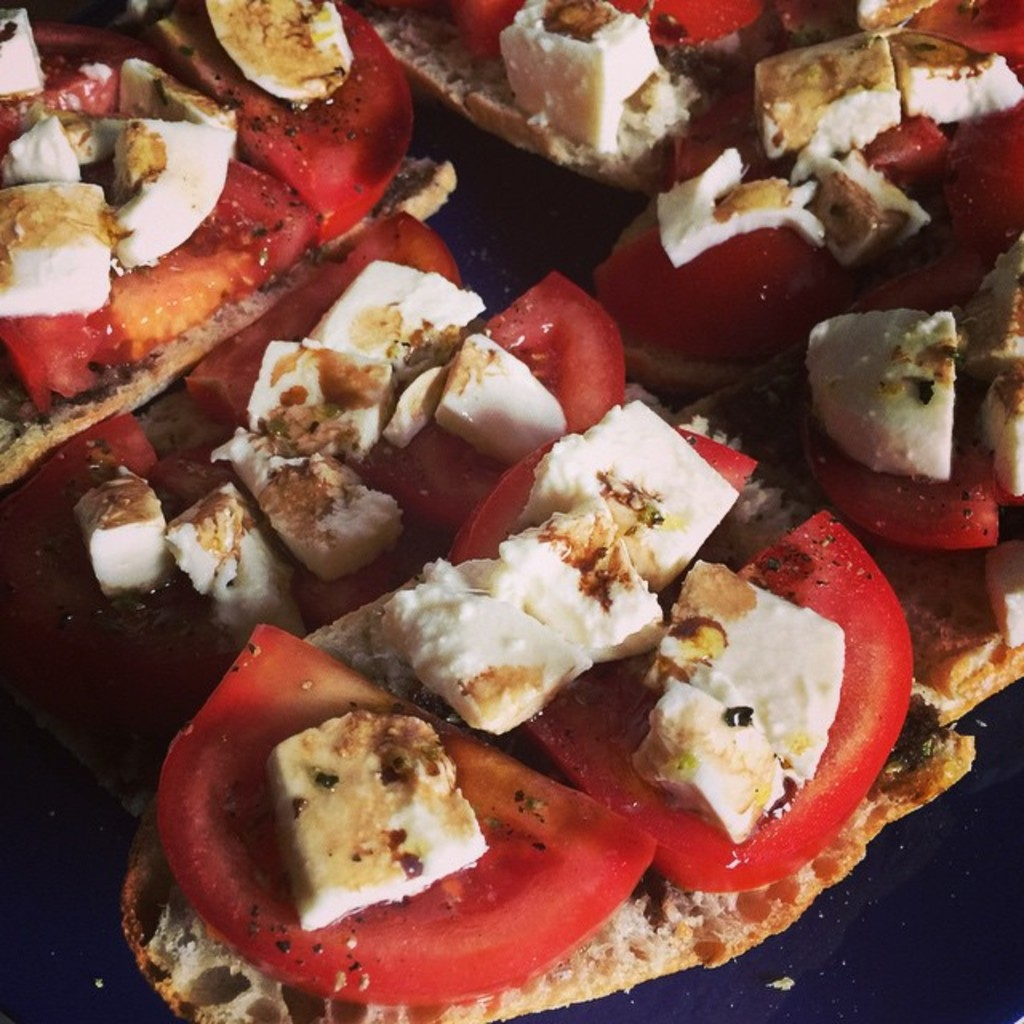Tomato: (0, 212, 911, 1007), (452, 0, 1022, 546), (0, 157, 321, 415), (156, 0, 413, 246), (0, 20, 156, 149)
